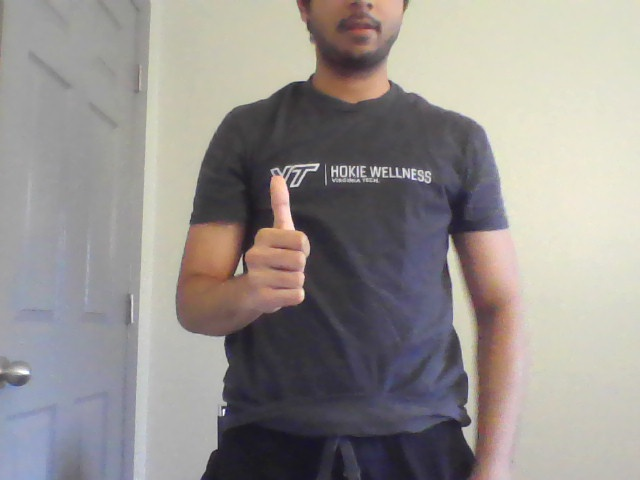confirm: (239, 167, 323, 317)
